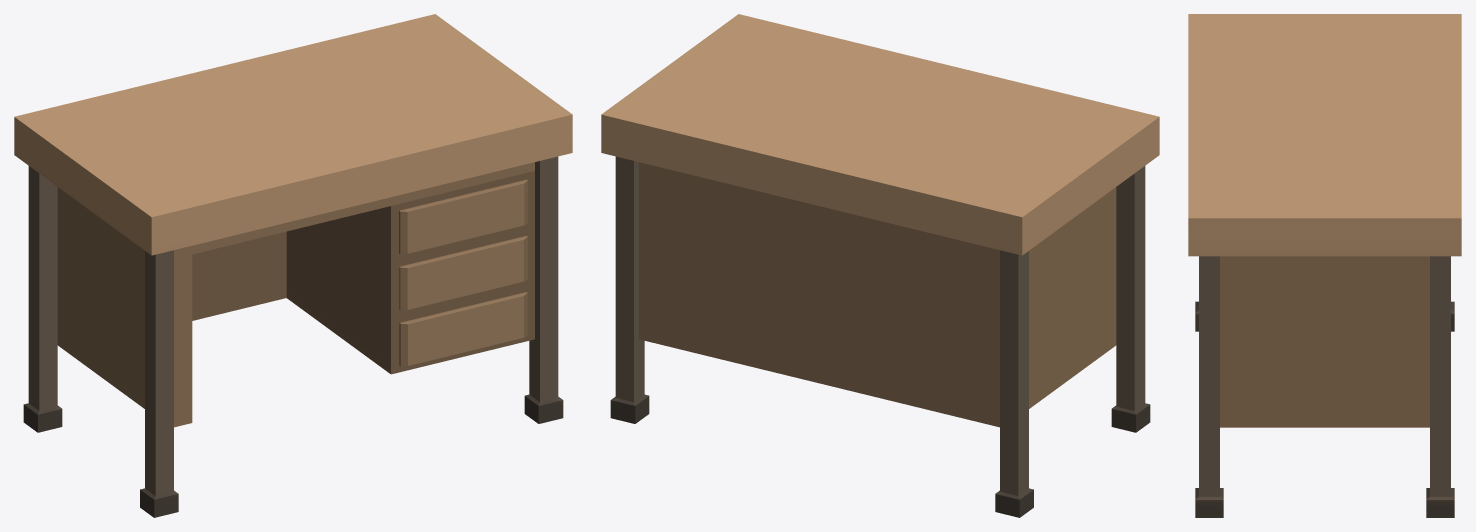
The model's file is SDesk1.fbx.
3 views of the same model, side by side, from view 1: azimuth 30°, elevation 25°; view 2: azimuth 150°, elevation 25°; view 3: azimuth 270°, elevation 25° (orthographic).
Visible parts, largest first — view 1: Cube; view 2: Cube; view 3: Cube.
Boxes of the visible parts, x1,y1,x2,y2 form: Cube: (14,14,572,517); Cube: (601,14,1159,517); Cube: (1188,14,1461,517).
Size of the model in its own units: 460 by 318 by 260.
Materials: 1 (1 with a texture image).
